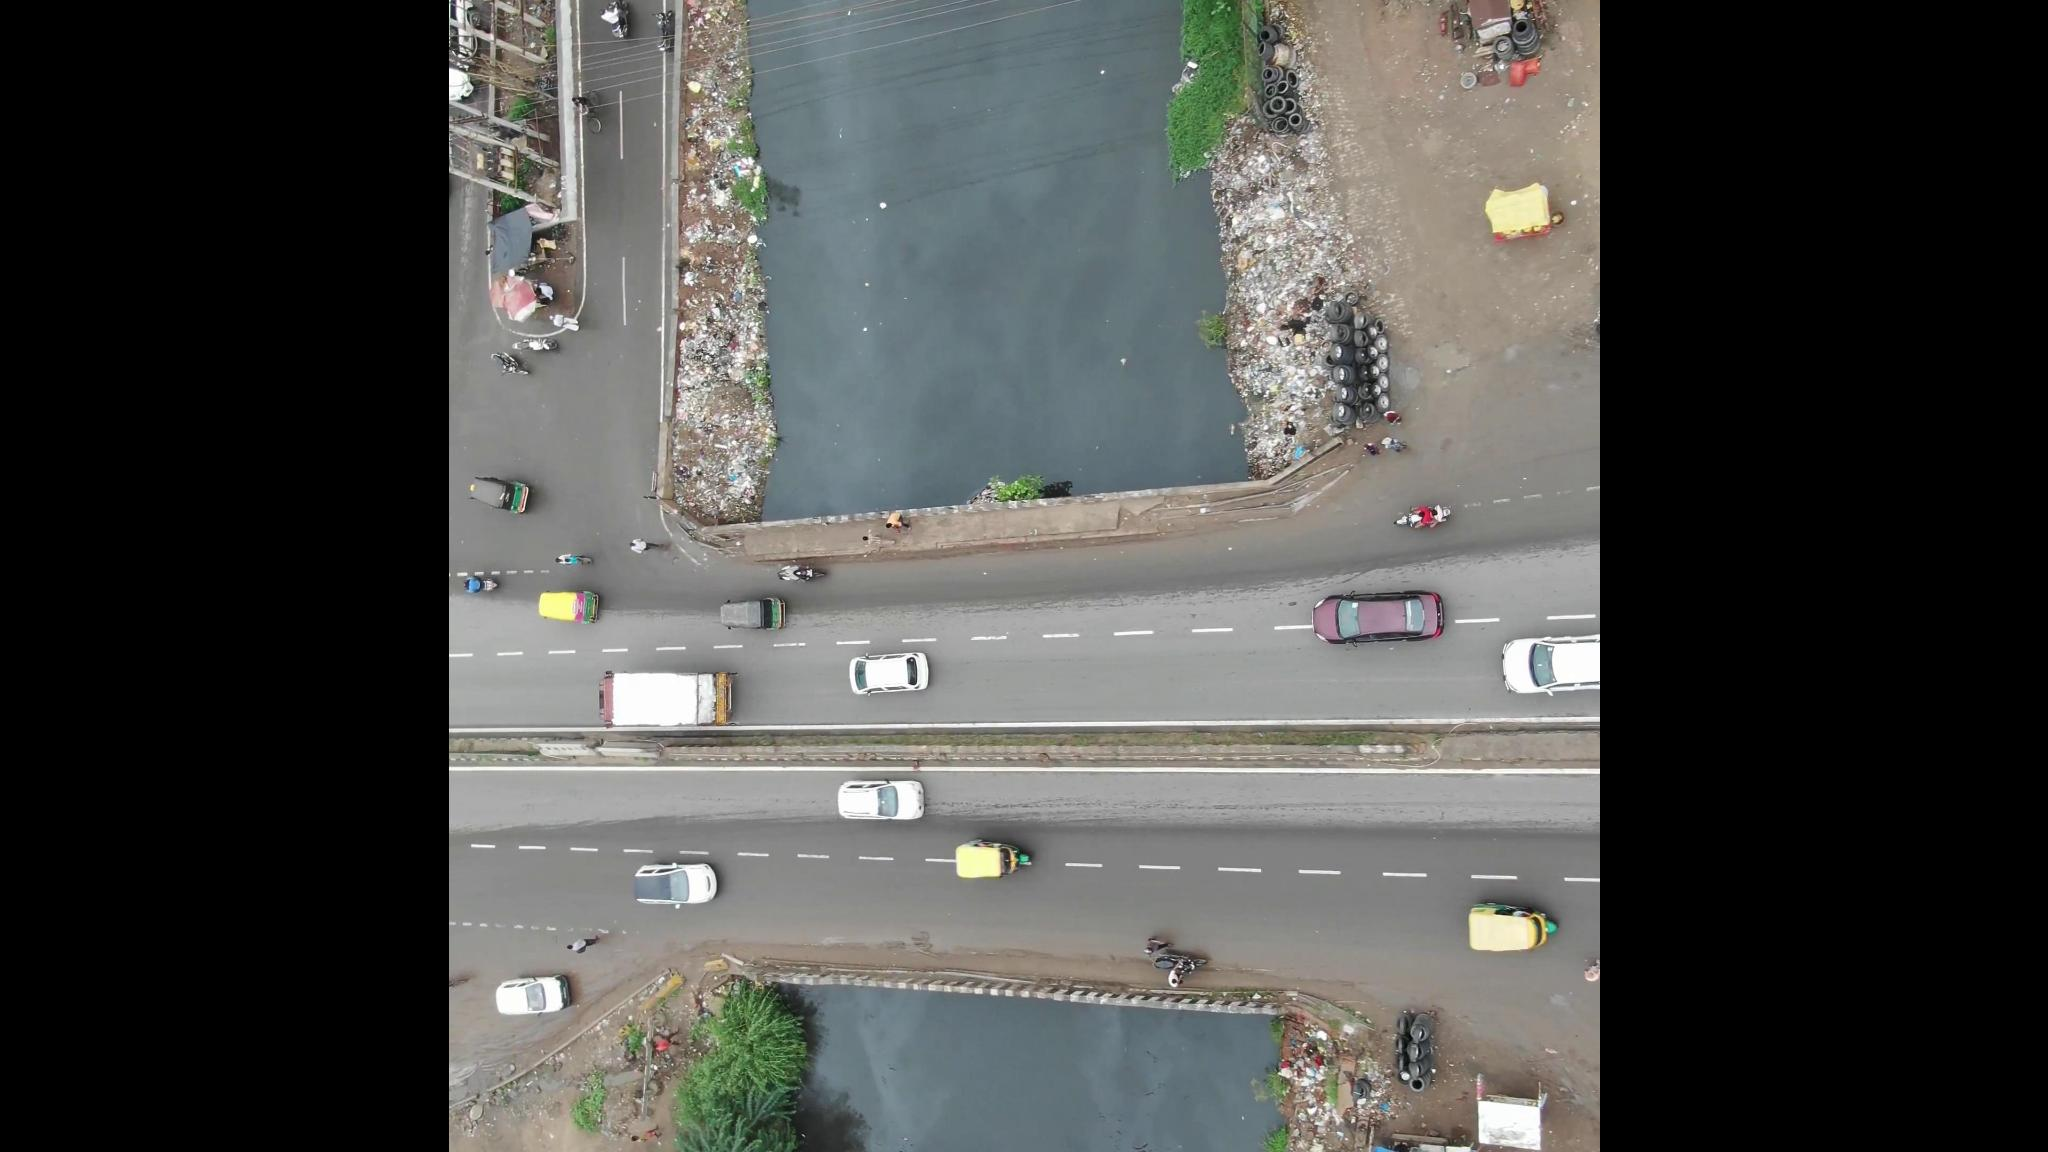Road_side_garbage: (1205, 113, 1400, 478), (1267, 1025, 1371, 1152)
